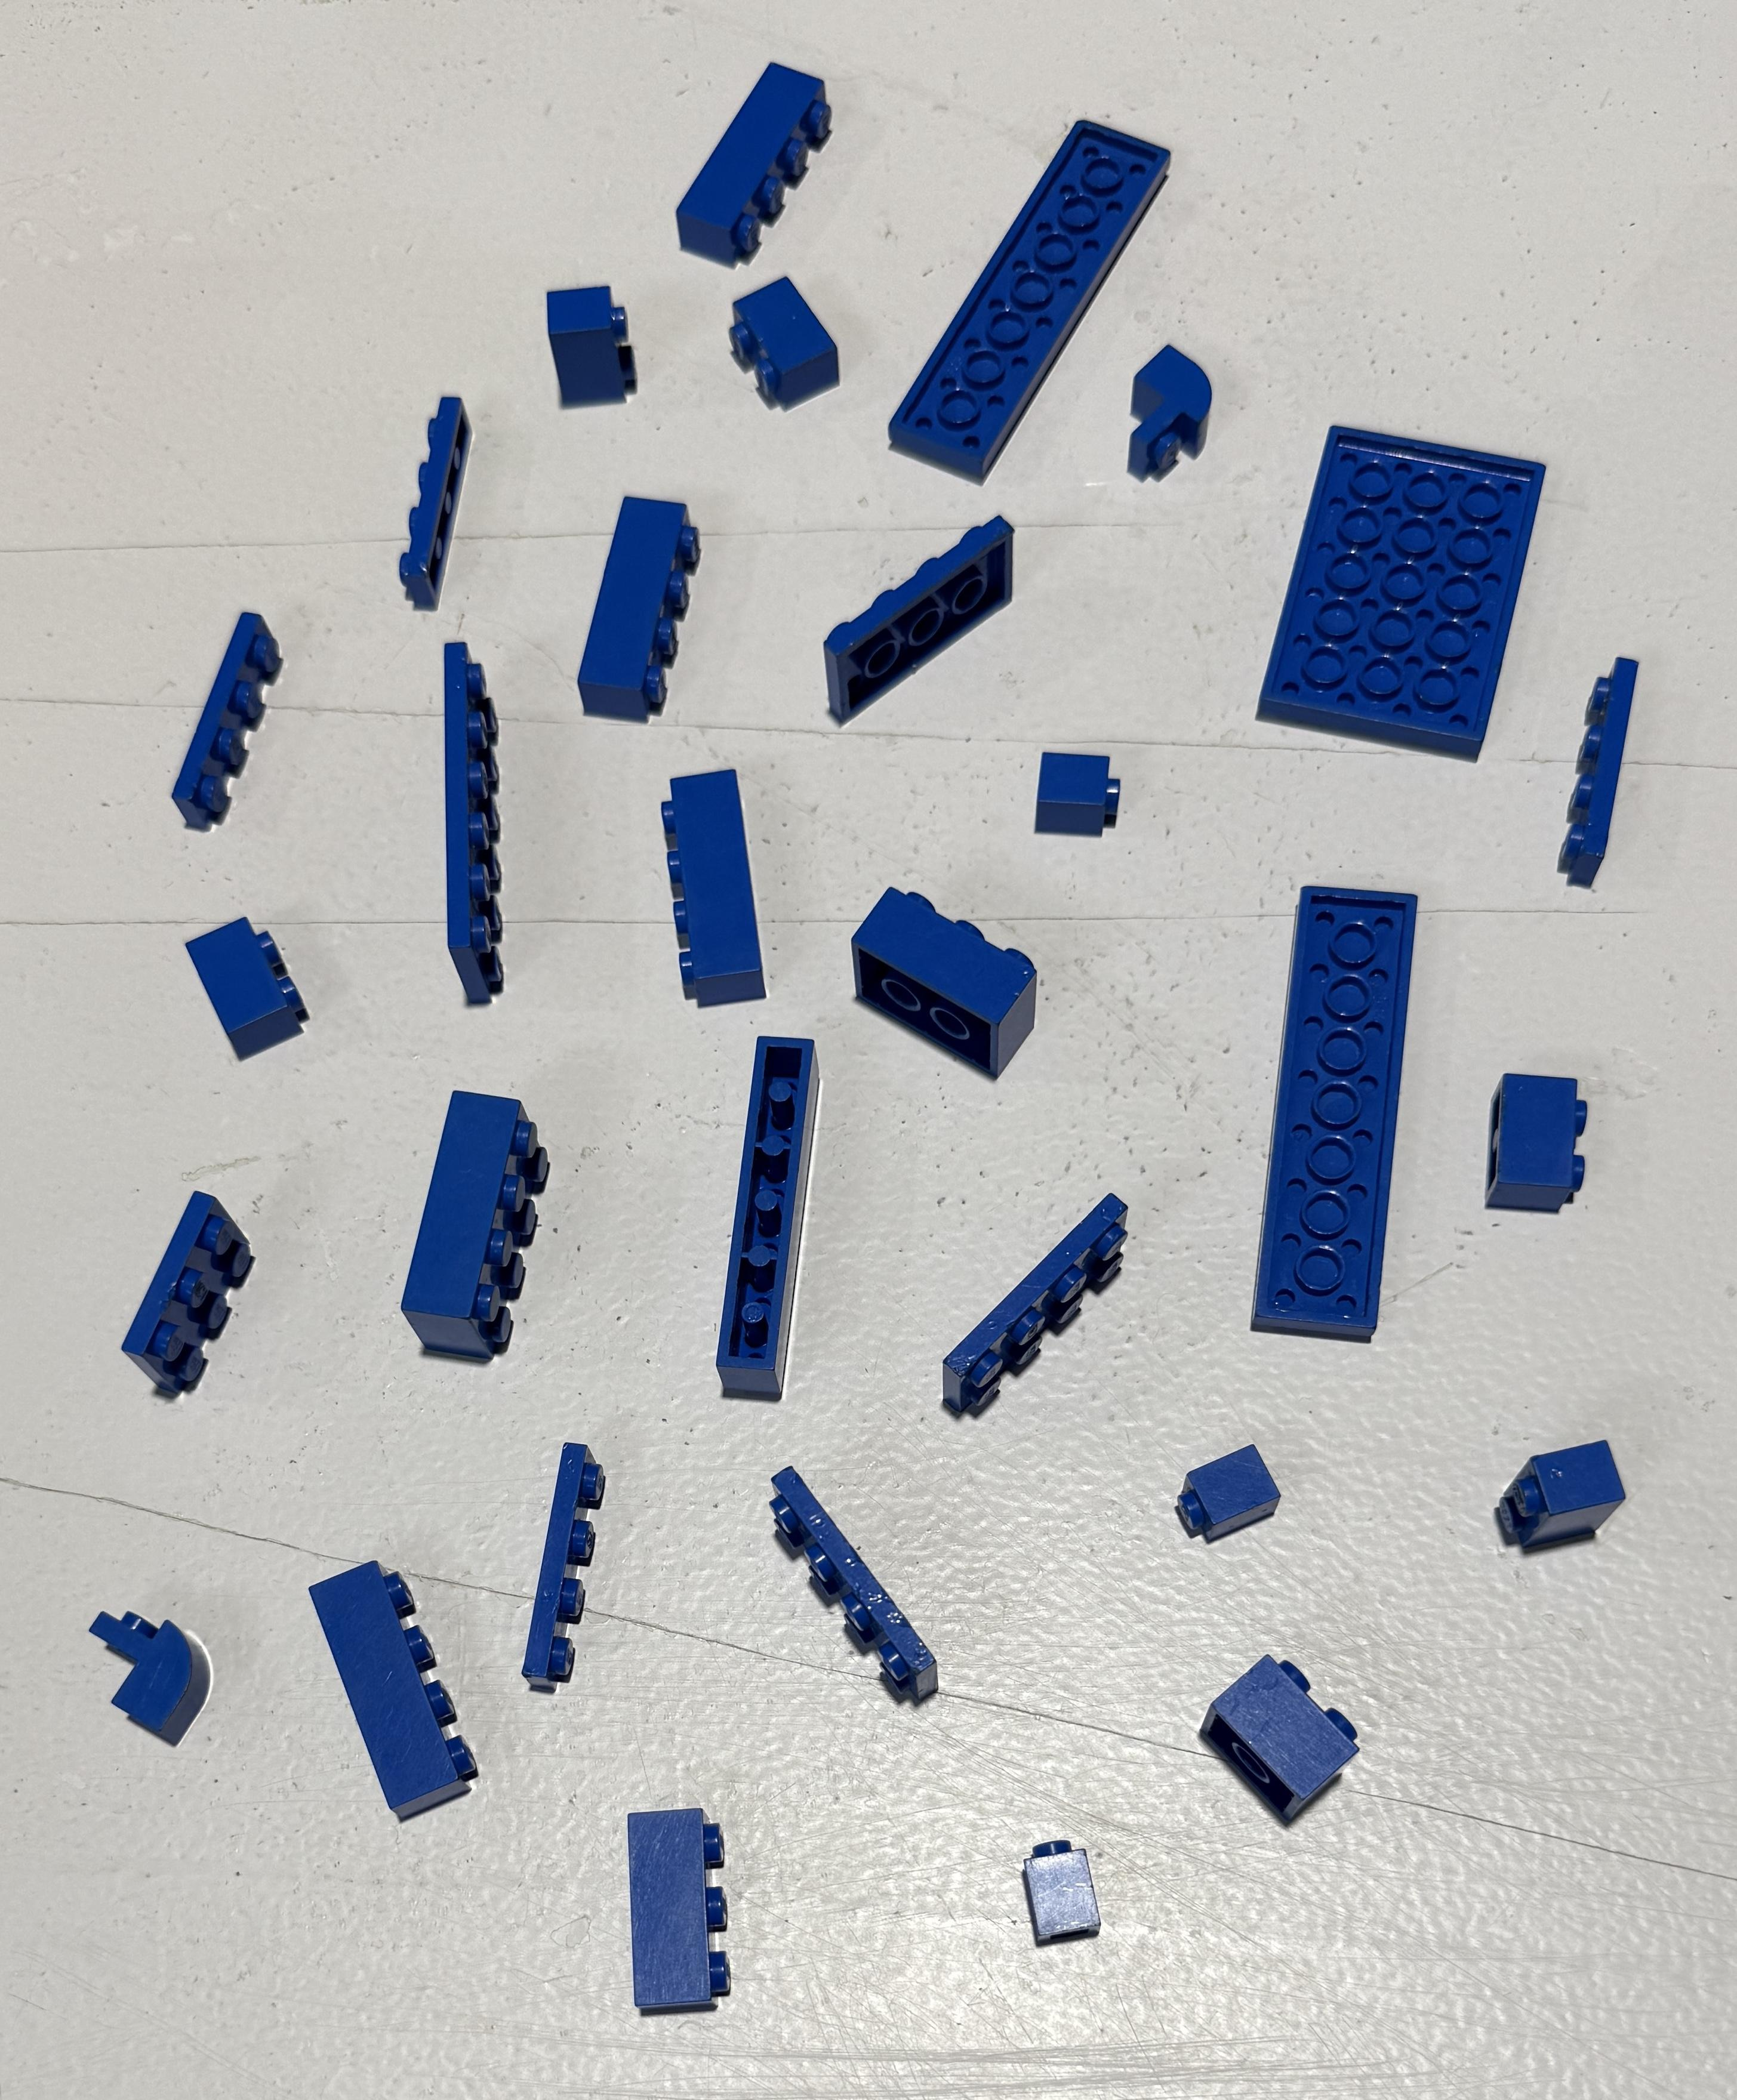brick_1x1: (961, 1807, 1146, 1985), (1020, 717, 1163, 849), (1170, 1418, 1285, 1575)
brick_1x2: (1188, 1624, 1383, 1875), (155, 879, 328, 1078), (511, 251, 661, 419), (1481, 1053, 1610, 1242), (701, 267, 856, 417)
brick_1x3: (591, 1774, 759, 2051)
brick_1x4: (293, 1538, 497, 1837), (626, 745, 795, 1048), (656, 45, 863, 288), (562, 469, 715, 757)
brick_2x3: (837, 865, 1050, 1106)
brick_2x4: (373, 1066, 576, 1381)
